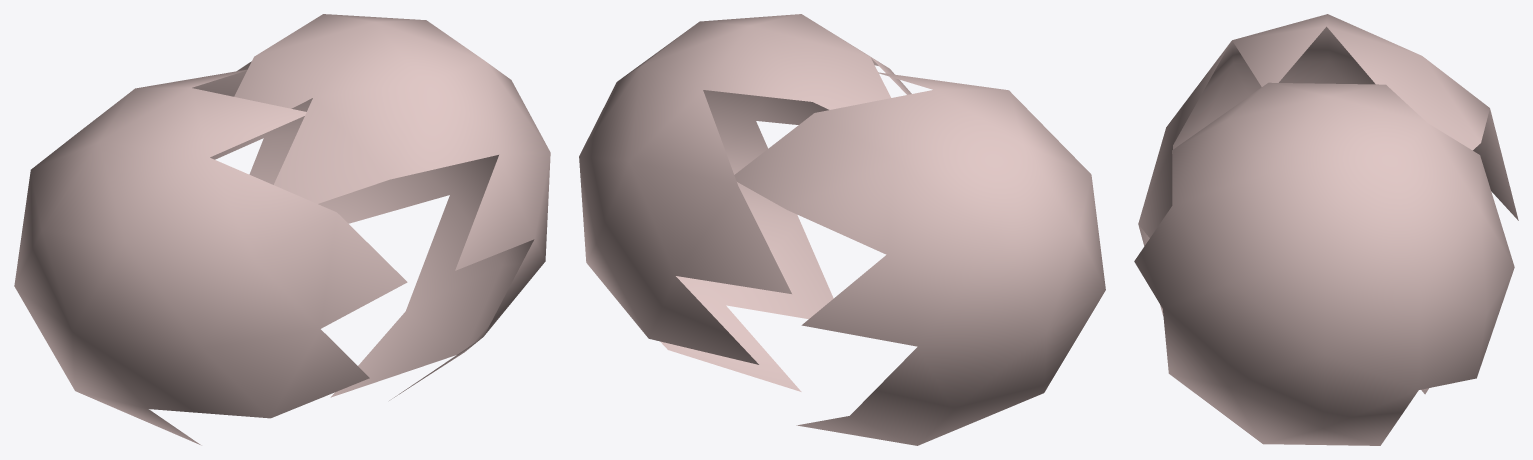
Rendered from egg cracked 3.fbx.
3 renders of one model, left to right at view 1: azimuth 30°, elevation 25°; view 2: azimuth 150°, elevation 25°; view 3: azimuth 270°, elevation 25°, orthographic.
Parts seen in each view (by area): view 1: egg cracked 3; view 2: egg cracked 3; view 3: egg cracked 3.
Part boxes in pixels (x1=…): egg cracked 3: x1=14, y1=14, x2=550, y2=445; egg cracked 3: x1=579, y1=14, x2=1105, y2=445; egg cracked 3: x1=1134, y1=14, x2=1518, y2=445.
Size of the model in its own units: 0.295 by 0.2086 by 0.2016.
